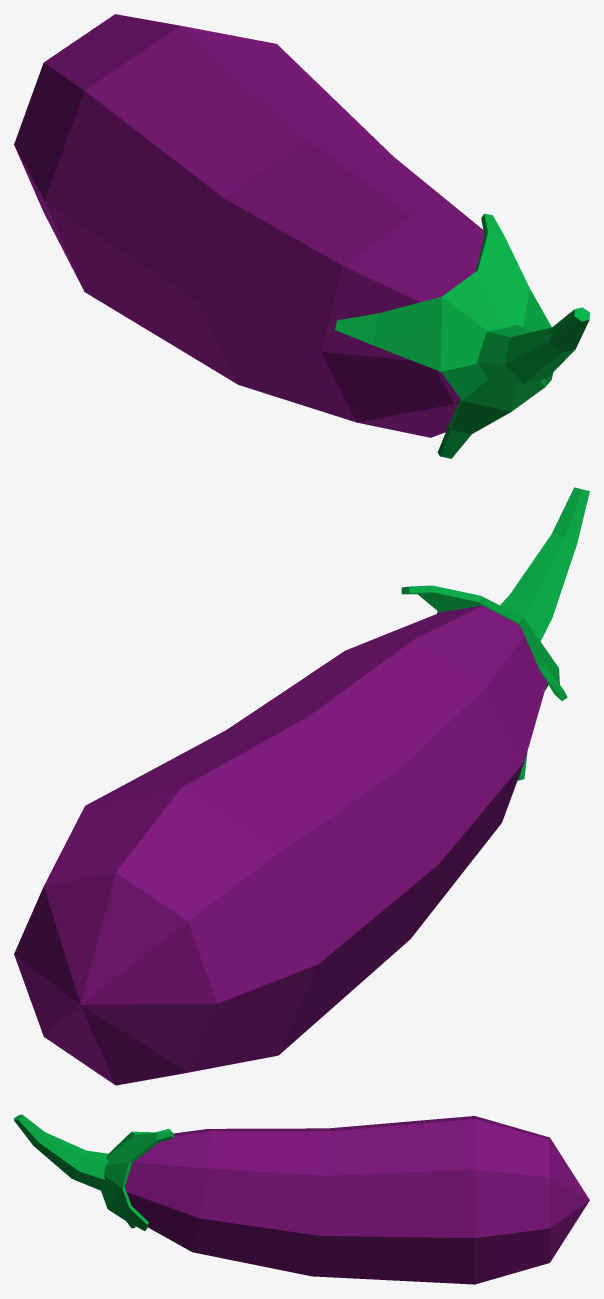
File: eggplant_001.obj
3 views of the same model, one above another, from view 1: azimuth 30°, elevation 25°; view 2: azimuth 150°, elevation 25°; view 3: azimuth 270°, elevation 25° (orthographic). The views are drawn at different scales.
Visible parts, largest first — view 1: eggplant_001; view 2: eggplant_001; view 3: eggplant_001.
Boxes of the visible parts, box(x1,y1,x2,y2) form: eggplant_001: box(14, 14, 589, 458); eggplant_001: box(14, 487, 589, 1085); eggplant_001: box(14, 1114, 589, 1284).
Size of the model in its own units: 0.0853 by 0.0874 by 0.2738.
